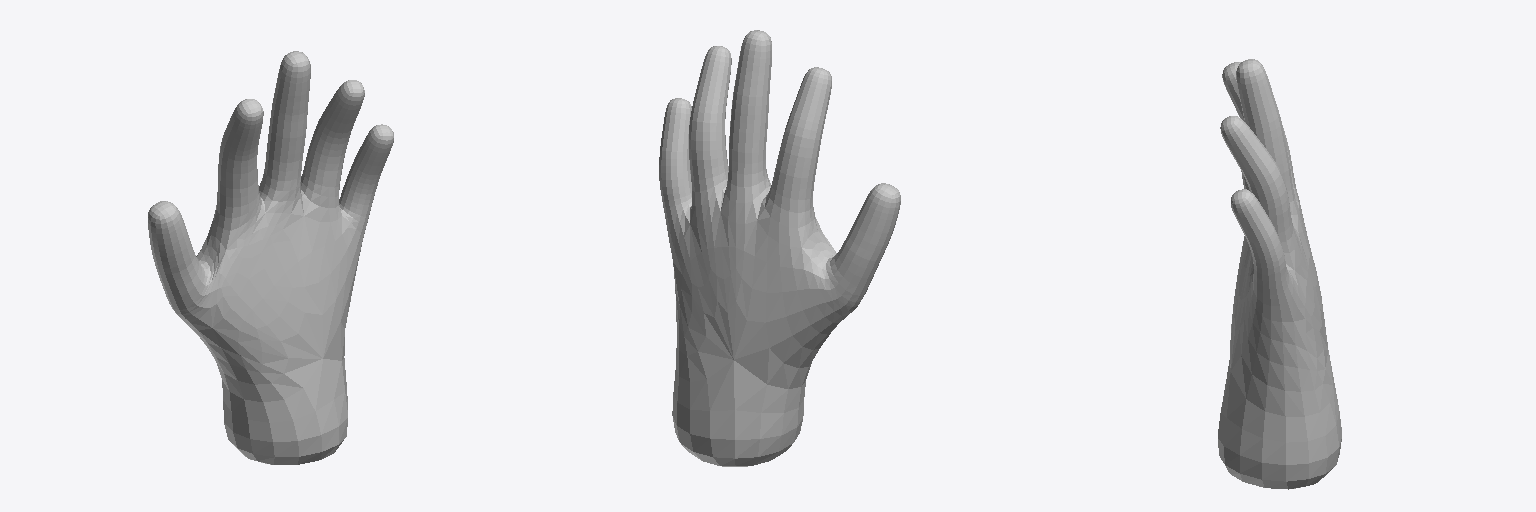
The model's file is handanimatsion4.obj.
3 views of the same model, side by side, from view 1: azimuth 30°, elevation 25°; view 2: azimuth 150°, elevation 25°; view 3: azimuth 270°, elevation 25° (orthographic).
Visible parts, largest first — view 1: Cube; view 2: Cube; view 3: Cube.
Part boxes in pixels (x1,y1,x2,y2): Cube: (148, 51, 393, 464); Cube: (659, 30, 900, 466); Cube: (1218, 59, 1341, 489).
Bounding box in the file's own units: 3.86 × 6.47 × 1.77.